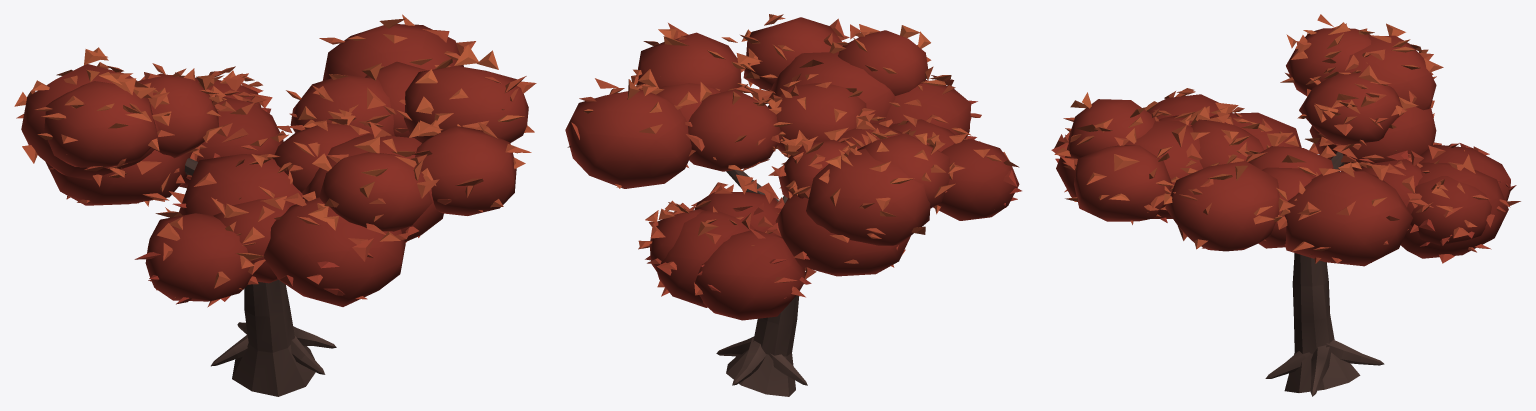
File: momiji_2.glb
3 views of the same model, side by side, from view 1: azimuth 30°, elevation 25°; view 2: azimuth 150°, elevation 25°; view 3: azimuth 270°, elevation 25° (orthographic). The views are drawn at different scales.
Visible parts, largest first — view 1: momiji_2; view 2: momiji_2; view 3: momiji_2.
Boxes of the visible parts, x1=… form: momiji_2: x1=14, y1=14, x2=536, y2=396; momiji_2: x1=565, y1=14, x2=1021, y2=396; momiji_2: x1=1051, y1=14, x2=1520, y2=396.
Size of the model in its own units: 10.24 by 7.66 by 10.97.
